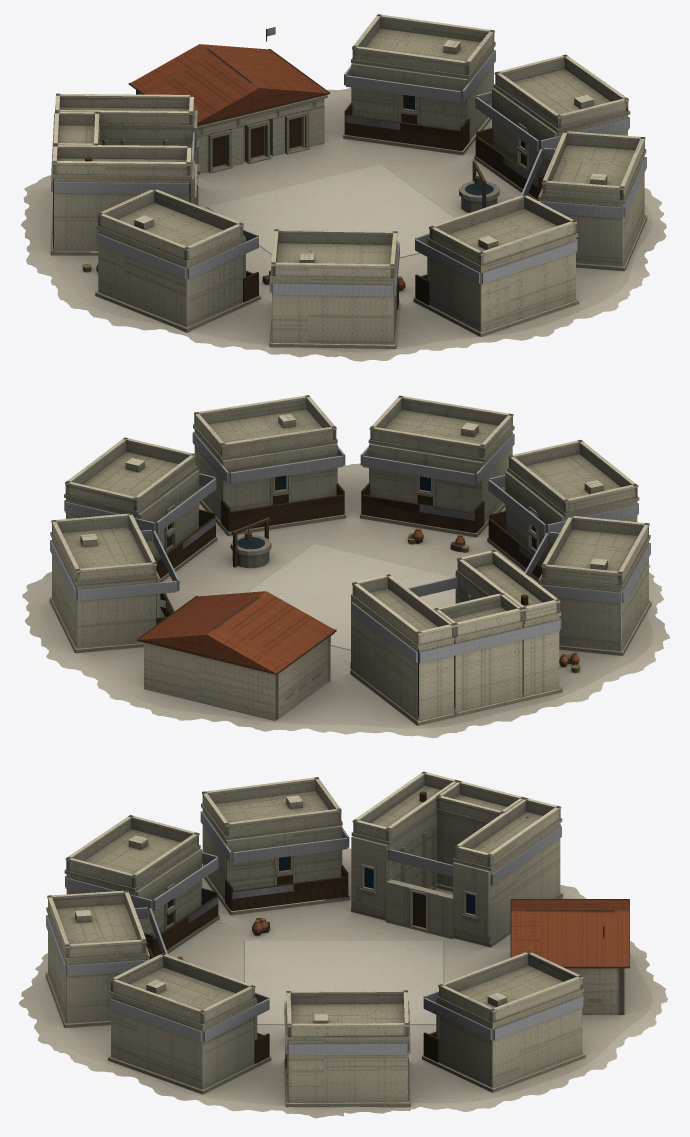
File: classical-town-small-a-israelite-1e566bba.glb
3 views of the same model, one above another, from view 1: azimuth 30°, elevation 25°; view 2: azimuth 150°, elevation 25°; view 3: azimuth 270°, elevation 25° (orthographic).
Parts seen in each view (by area): view 1: LOD0; view 2: LOD0; view 3: LOD0.
Boxes of the visible parts, x1=… form: LOD0: x1=21, y1=14, x2=666, y2=361; LOD0: x1=22, y1=395, x2=669, y2=738; LOD0: x1=19, y1=771, x2=667, y2=1118.
Size of what is drawn, in the model's own units: 3.98 by 0.6357 by 4.01.
Materials: 3 (3 with a texture image).
